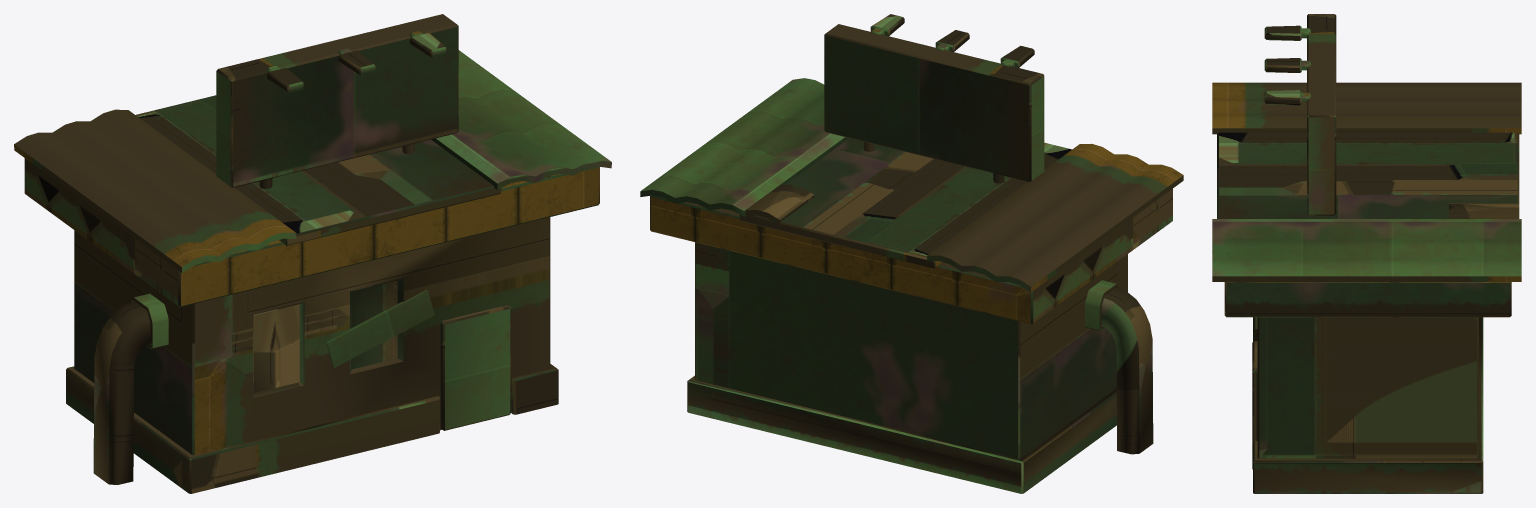
The model's file is build13.fbx.
3 renders of one model, left to right at view 1: azimuth 30°, elevation 25°; view 2: azimuth 150°, elevation 25°; view 3: azimuth 270°, elevation 25°, orthographic. The views are drawn at different scales.
Parts seen in each view (by area): view 1: build13; view 2: build13; view 3: build13.
Part boxes in pixels (<box>): build13: <box>14,14,611,493</box>; build13: <box>640,14,1183,493</box>; build13: <box>1212,14,1521,493</box>.
Bounding box in the file's own units: 865 × 697 × 559.
